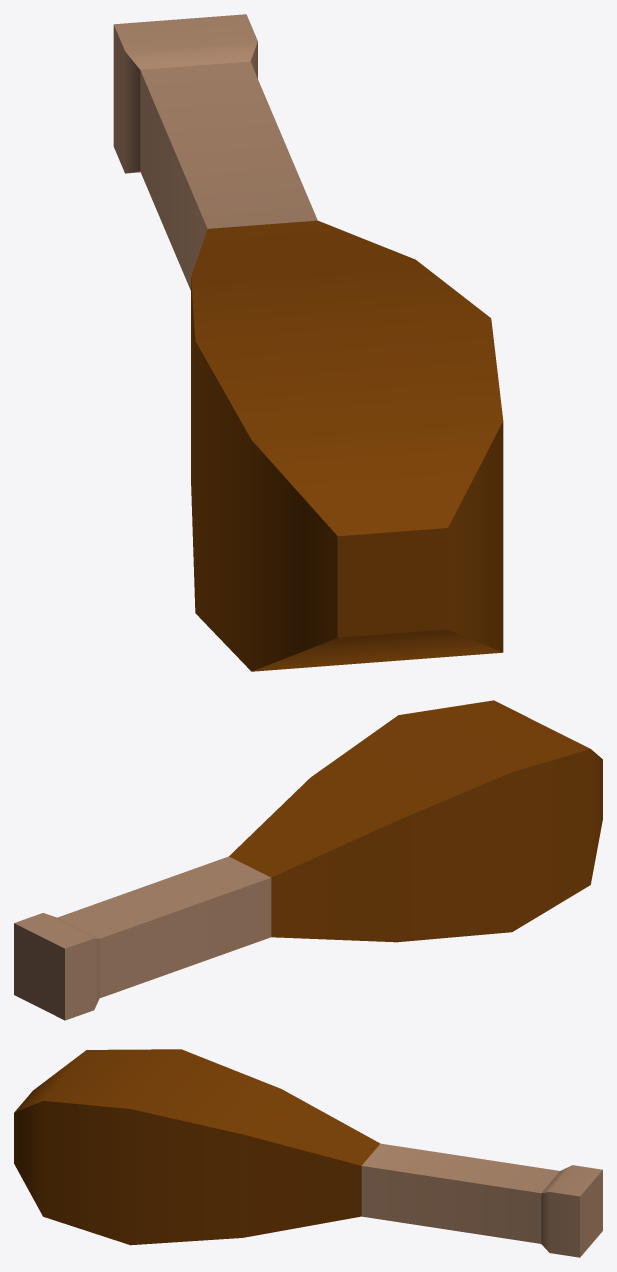
File: Chicken Leg.fbx
3 views of the same model, one above another, from view 1: azimuth 30°, elevation 25°; view 2: azimuth 150°, elevation 25°; view 3: azimuth 270°, elevation 25° (orthographic). The views are drawn at different scales.
Parts seen in each view (by area): view 1: ChickenLeg; view 2: ChickenLeg; view 3: ChickenLeg.
Part boxes in pixels (bbox=[...]): ChickenLeg: bbox=[113, 14, 503, 671]; ChickenLeg: bbox=[14, 700, 602, 1020]; ChickenLeg: bbox=[14, 1049, 602, 1257].
Bounding box in the file's own units: 0.3257 × 0.1736 × 0.6802.
